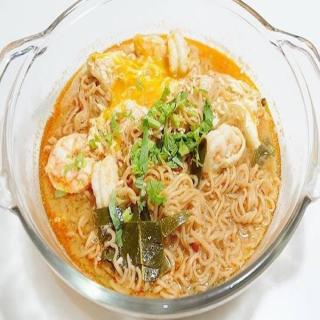carbs: (163, 170, 272, 284), (61, 81, 101, 131), (206, 124, 244, 170)
meat: (48, 135, 96, 194), (94, 160, 118, 208), (166, 34, 190, 79)
noodles: (50, 39, 273, 284)
veg: (100, 204, 166, 277), (134, 136, 203, 168), (151, 91, 178, 128)
